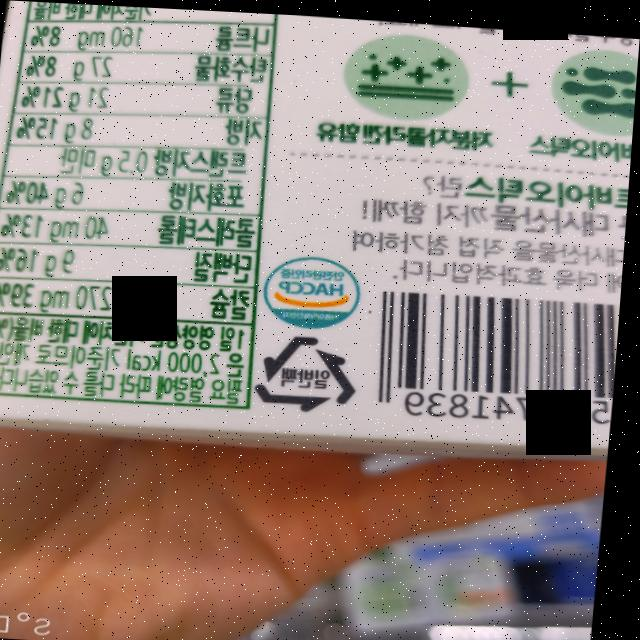NormalPack: (257, 326, 365, 412)
